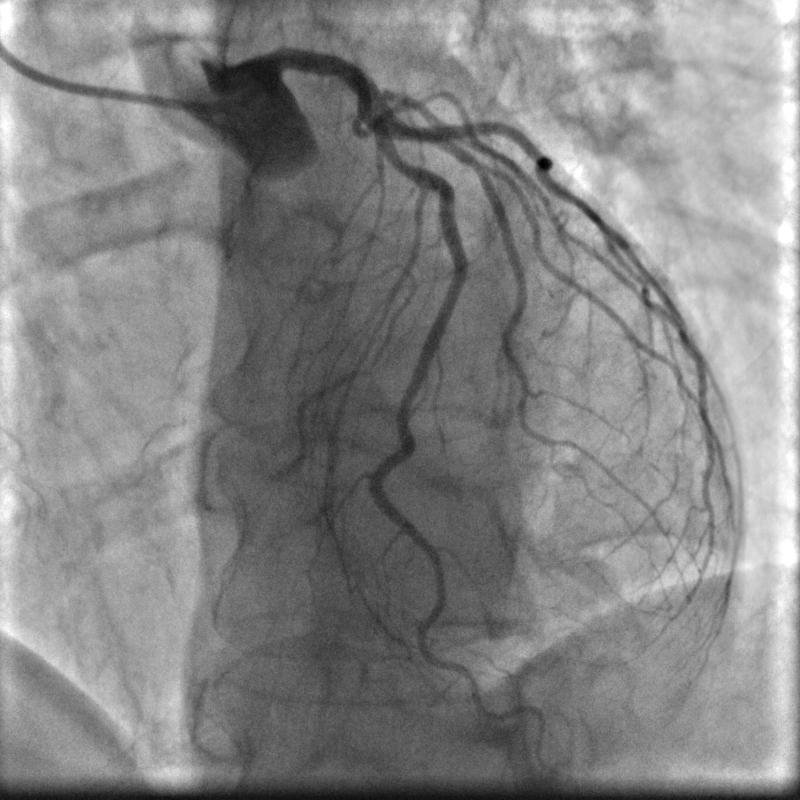Stenosis: (382, 151, 422, 173)
